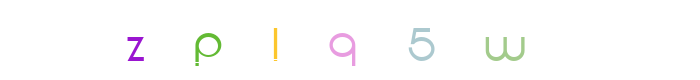5: (310, 0, 390, 80)
L: (235, 0, 315, 80)
P: (166, 0, 246, 80)
Q: (289, 0, 369, 80)
W: (403, 0, 483, 80)
Z: (95, 0, 175, 80)
